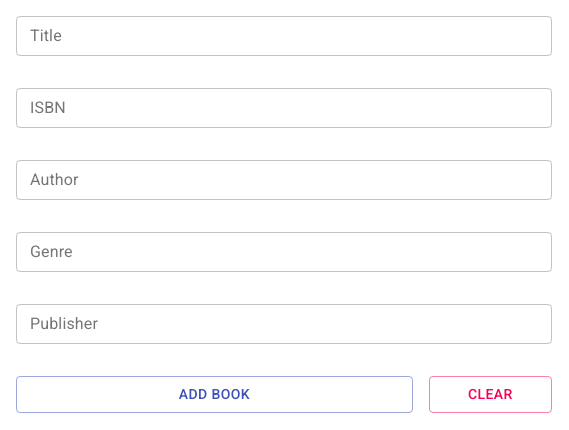
Test: Add New Book Form Submit Errors › Submit with all empty fields and expect error message
This screenshot has width=569, height=430.
Click the button "Add Book". click: (214, 394)
box: [16,376,413,412]
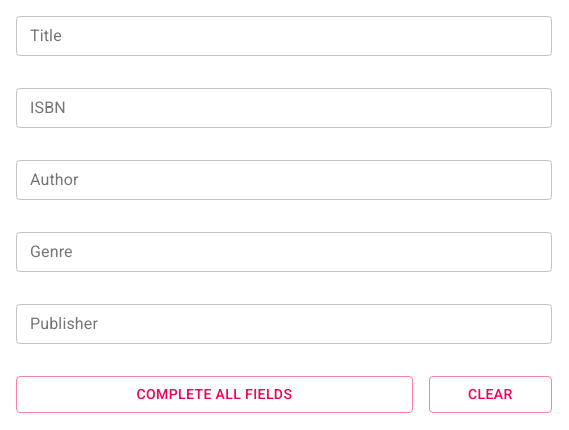
Now the button "Complete All Fields" is shown, box [16,376,413,412]
Now the button "Complete All Fields" no longer shows "Add Book", box [16,376,413,412]
